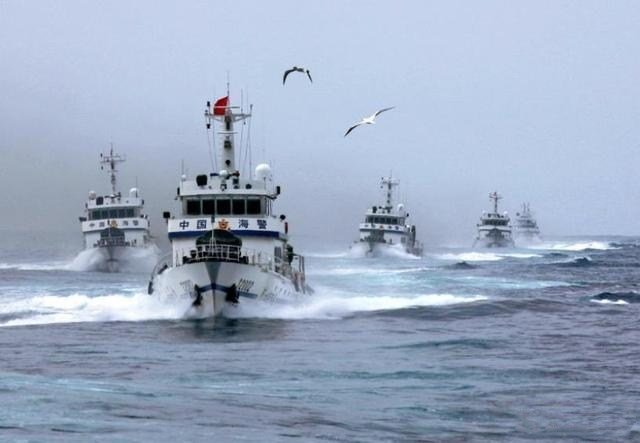bird: (339, 105, 397, 139), (280, 60, 314, 82)
otherboat: (124, 97, 326, 344), (65, 135, 159, 280), (341, 167, 425, 271), (467, 188, 521, 264), (505, 198, 548, 246)
